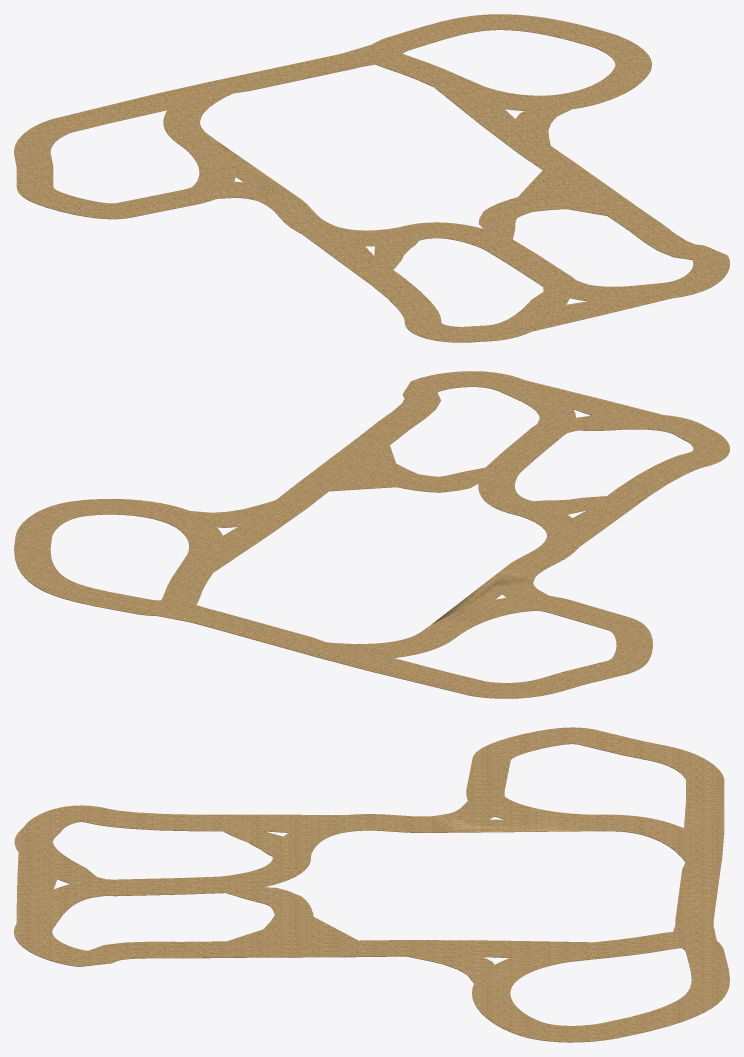
The model's file is newRoadNoBottom.fbx.
3 views of the same model, one above another, from view 1: azimuth 30°, elevation 25°; view 2: azimuth 150°, elevation 25°; view 3: azimuth 270°, elevation 25° (orthographic). The views are drawn at different scales.
Parts seen in each view (by area): view 1: newPath; view 2: newPath; view 3: newPath.
Part boxes in pixels (bbox=[...]): newPath: bbox=[14, 14, 729, 342]; newPath: bbox=[14, 371, 729, 698]; newPath: bbox=[14, 727, 729, 1042].
Size of the model in its own units: 7766 by 5 by 7469.
Materials: 1 (1 with a texture image).
